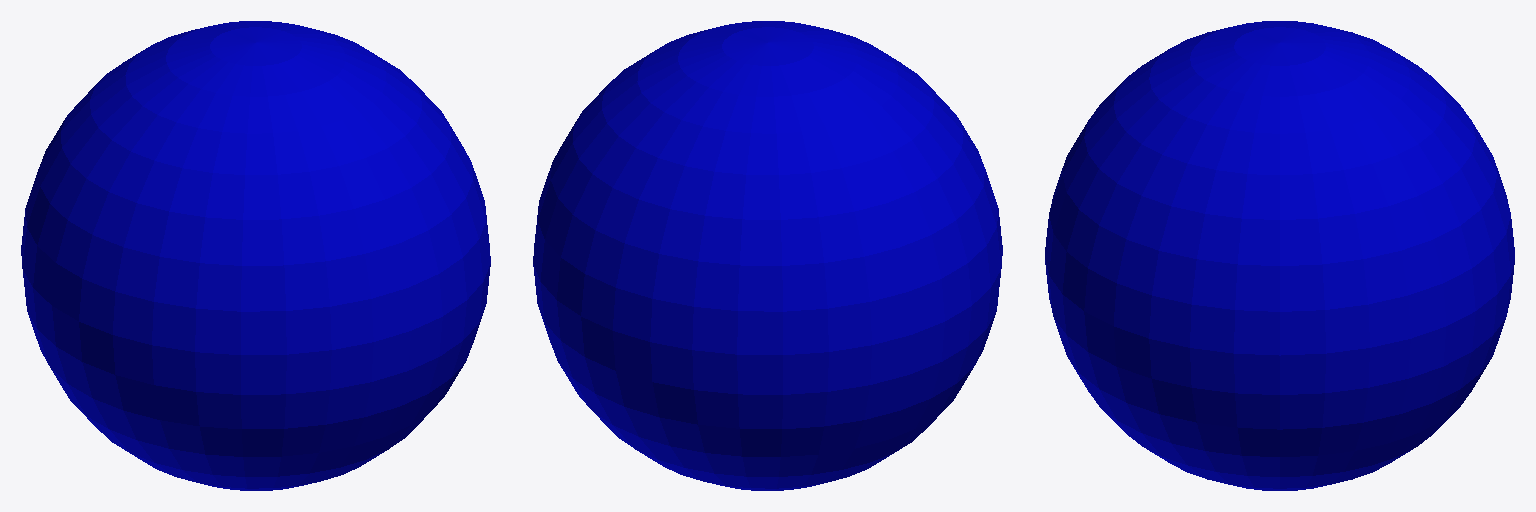
Rendered from water.obj.
The picture shows the model from 3 angles: view 1: azimuth 30°, elevation 25°; view 2: azimuth 150°, elevation 25°; view 3: azimuth 270°, elevation 25°; orthographic projection.
Parts seen in each view (by area): view 1: Sphere.002; view 2: Sphere.002; view 3: Sphere.002.
Boxes of the visible parts, x1=… form: Sphere.002: x1=21, y1=21, x2=490, y2=490; Sphere.002: x1=533, y1=21, x2=1002, y2=490; Sphere.002: x1=1045, y1=21, x2=1514, y2=490.
Bounding box in the file's own units: 0.283 × 0.283 × 0.283.